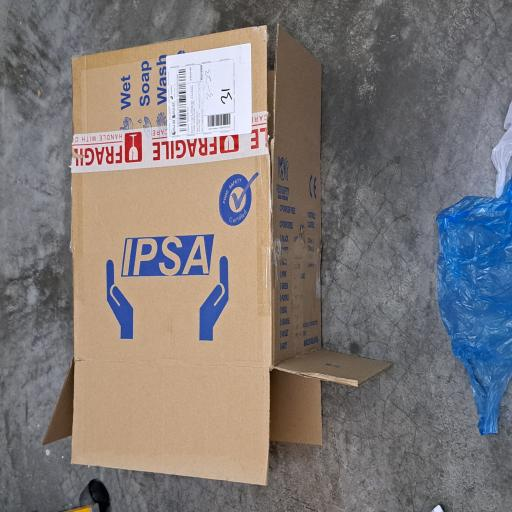cardboard: (18, 55, 367, 512)
